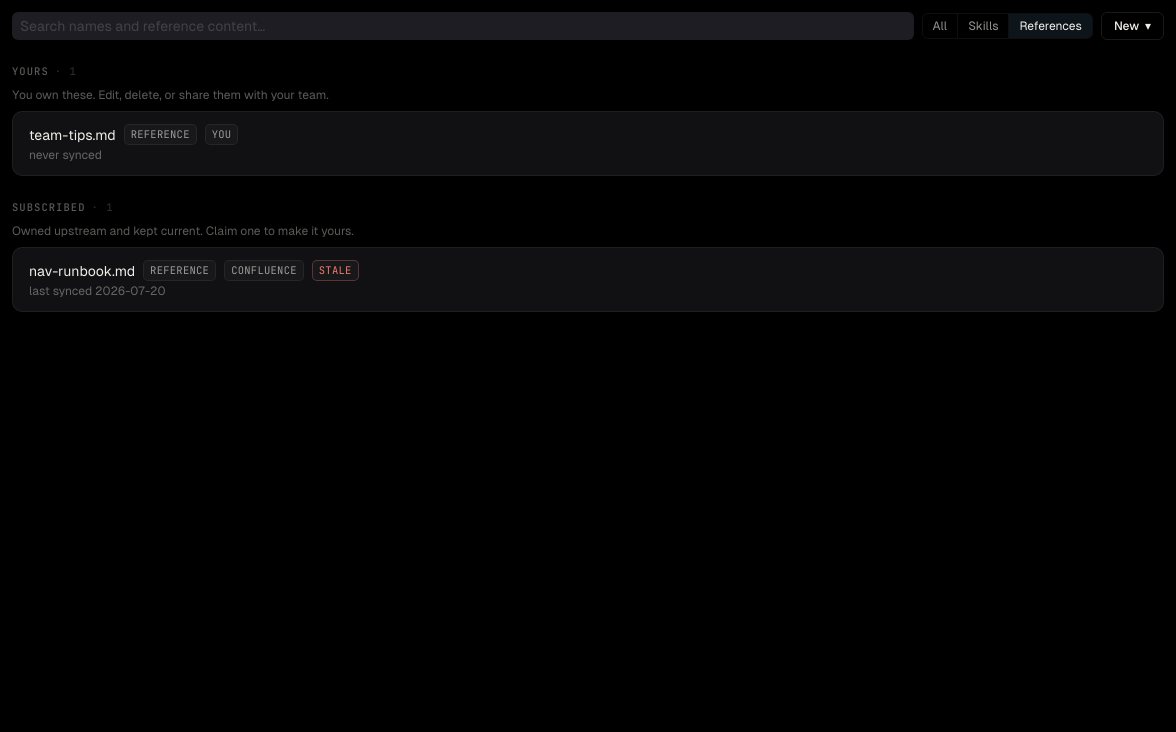
Test: LibraryPage filters › kind filter narrows to skills or references; initialKind presets it
Expected: the button "team-tips.md" is shown, [29,125,116,145]
Expected: the text "rca" is not shown
Click the button with aria-label "Filter kind · skill": x=984, y=26 [958,14,1010,38]
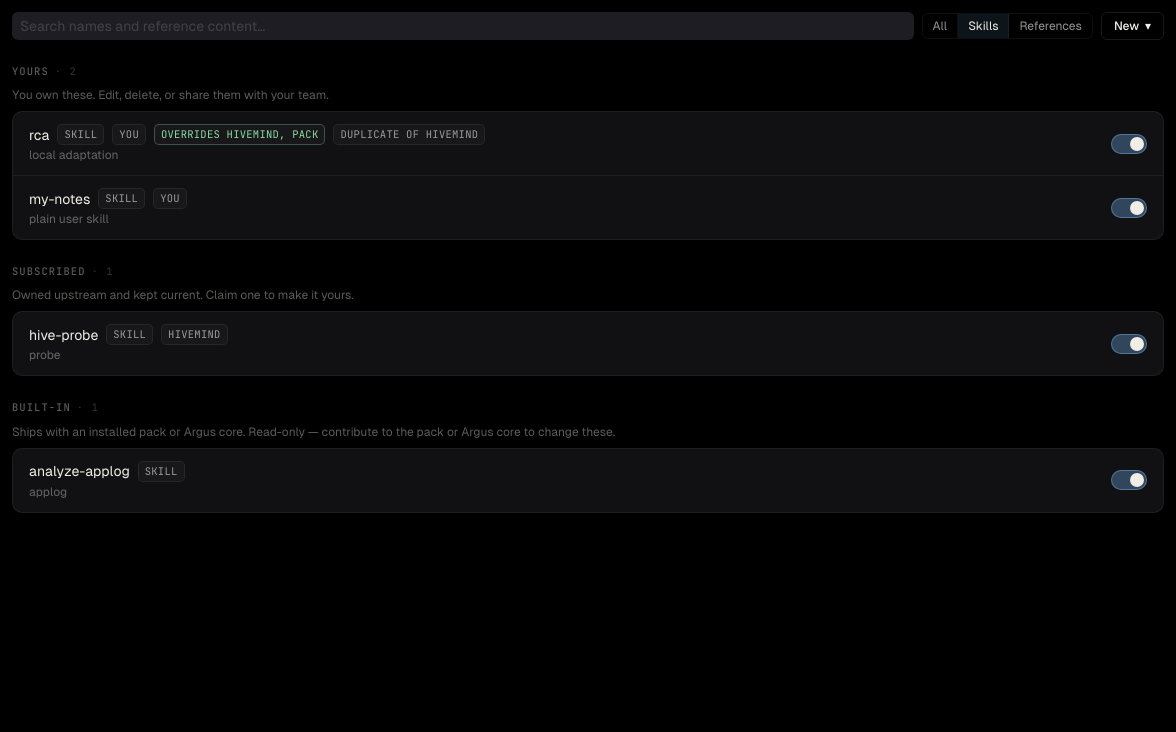
Expected: the button "rca" is shown, [29,125,50,145]
Expected: the button "team-tips.md" is gone
Click the button with aria-label "Filter kind · all": x=940, y=26 [922,14,958,38]
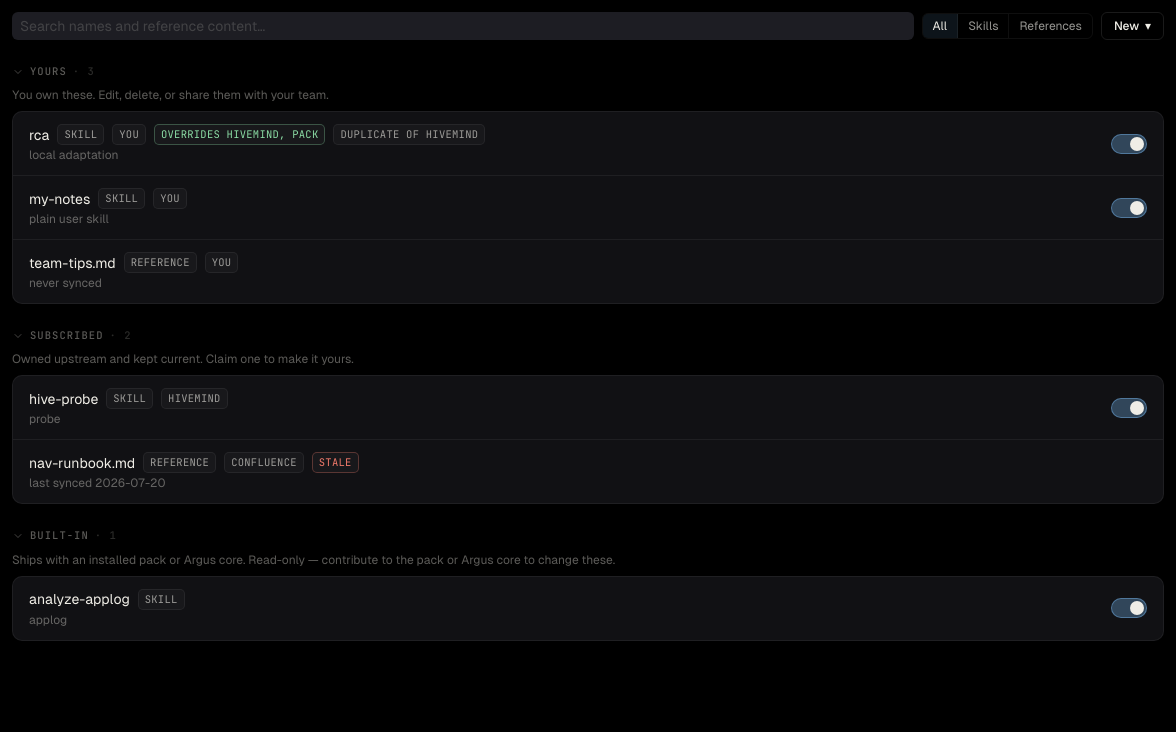
Expected: the button "team-tips.md" is shown, [29,253,116,273]
